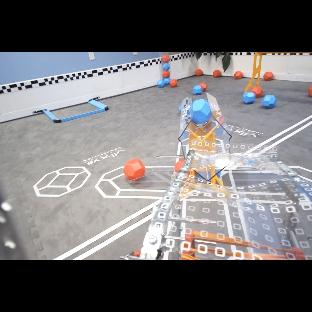Robot: (121, 142, 312, 260)
V5_BLUE: (192, 99, 212, 124), (262, 95, 277, 109), (242, 92, 255, 104), (158, 77, 171, 88), (193, 85, 203, 95), (163, 63, 170, 70), (179, 104, 182, 112), (217, 174, 220, 176)
V5_RED: (123, 159, 145, 180), (251, 86, 263, 98), (175, 158, 184, 172), (263, 72, 273, 81), (199, 82, 207, 92), (234, 71, 243, 79), (169, 79, 177, 87), (213, 70, 221, 77), (162, 55, 169, 63), (195, 69, 203, 76), (163, 71, 170, 78), (308, 86, 312, 96)
blueingoal: (192, 99, 212, 124), (199, 172, 211, 179), (217, 172, 220, 177)
redingoal: (123, 159, 145, 181), (174, 159, 184, 173)
redloader: (162, 55, 170, 63), (162, 71, 170, 78)
